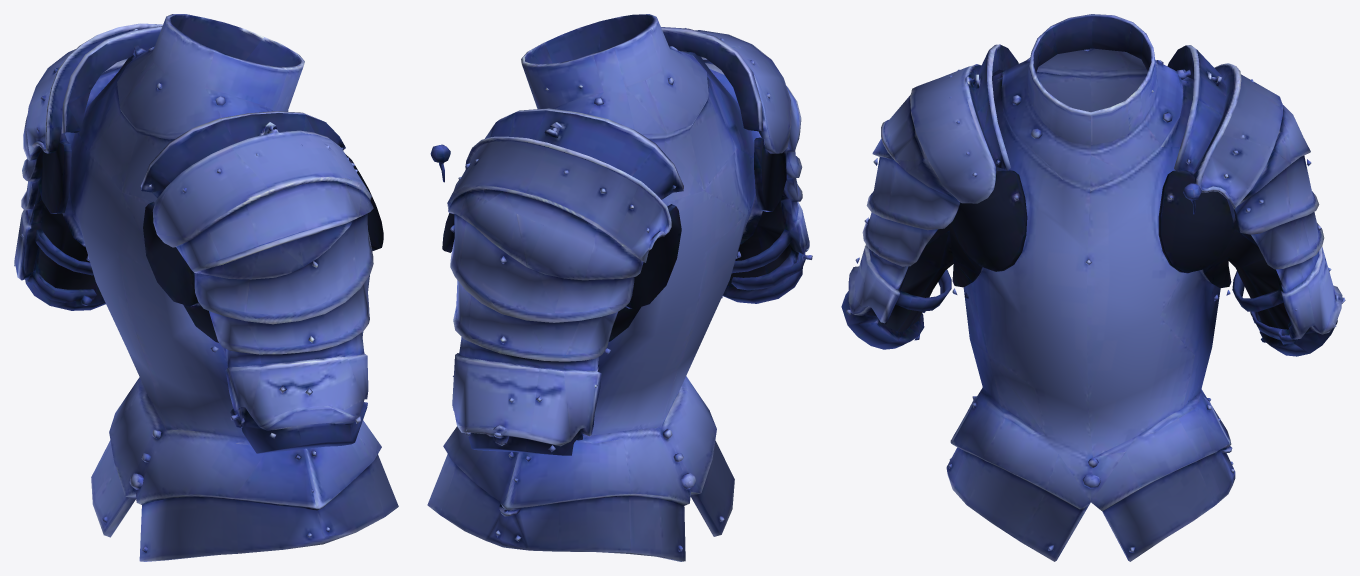
Rendered from mithril_platebody.glb.
3 views of the same model, side by side, from view 1: azimuth 30°, elevation 25°; view 2: azimuth 150°, elevation 25°; view 3: azimuth 270°, elevation 25° (orthographic). The views are drawn at different scales.
Visible parts, largest first — view 1: tripo_node_bc80c6f8-d932-48cd-8371-e106c18d9efe; view 2: tripo_node_bc80c6f8-d932-48cd-8371-e106c18d9efe; view 3: tripo_node_bc80c6f8-d932-48cd-8371-e106c18d9efe.
Boxes of the visible parts, box(x1,y1,x2,y2) form: tripo_node_bc80c6f8-d932-48cd-8371-e106c18d9efe: box(14, 14, 398, 561); tripo_node_bc80c6f8-d932-48cd-8371-e106c18d9efe: box(427, 14, 812, 561); tripo_node_bc80c6f8-d932-48cd-8371-e106c18d9efe: box(841, 14, 1345, 561).
Size of the model in its own units: 0.5488 by 0.998 by 0.9746.
Materials: 1 (1 with a texture image).
